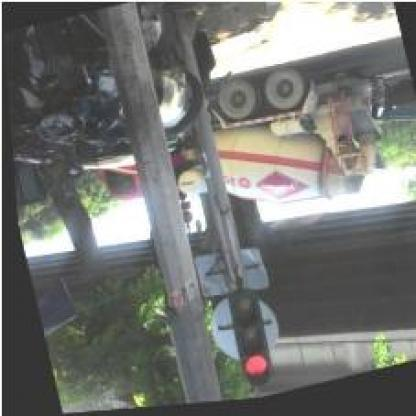red: (217, 290, 270, 392)
